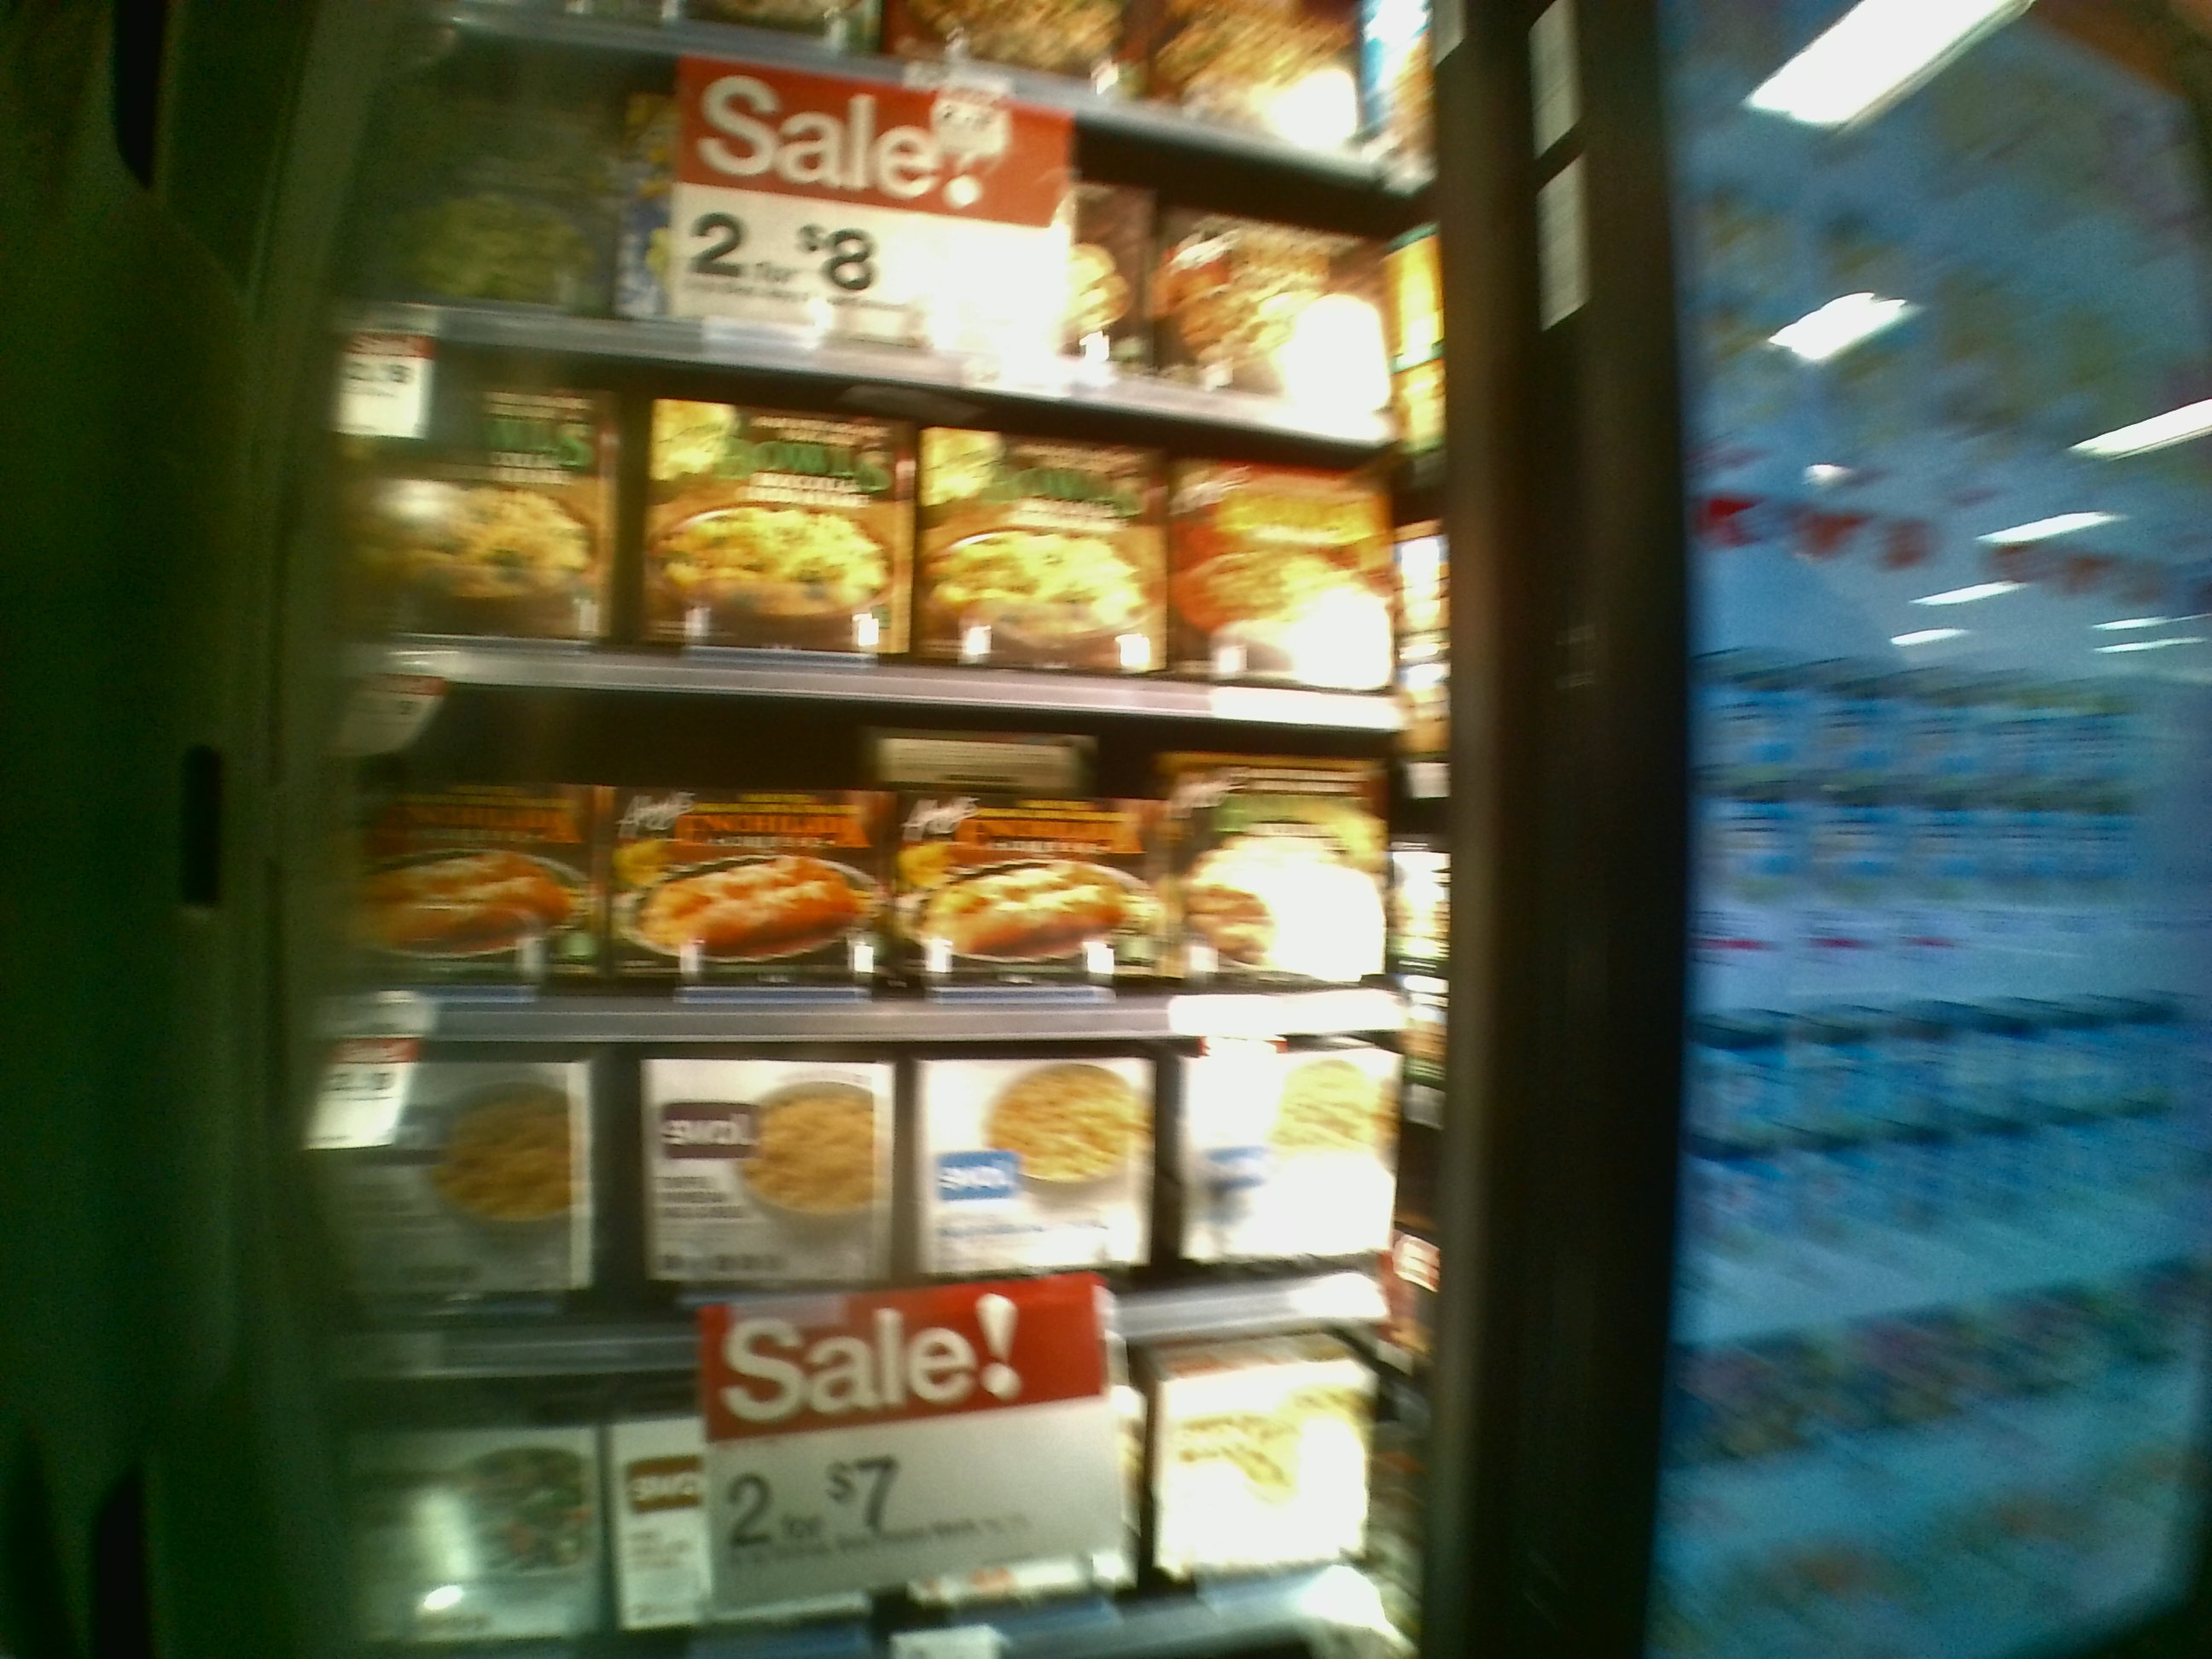shelf: (315, 701, 1418, 1042), (322, 389, 1406, 711), (334, 1049, 1411, 1373), (352, 1375, 1413, 1659)
